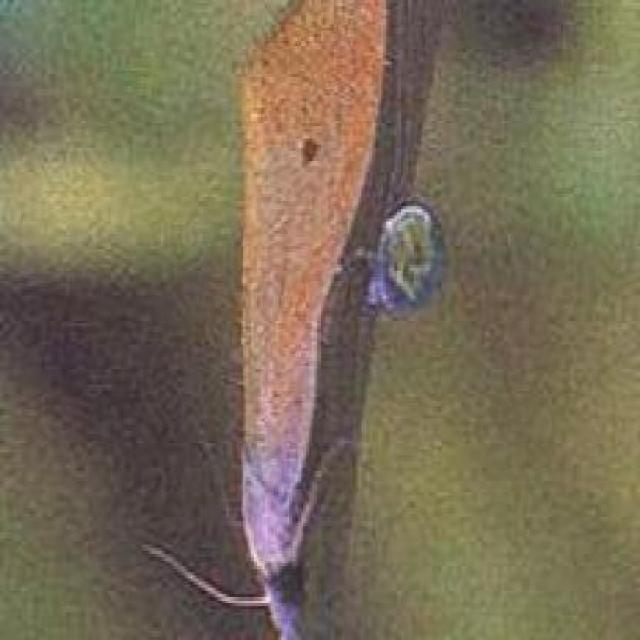stem-borer: (226, 0, 374, 640)
